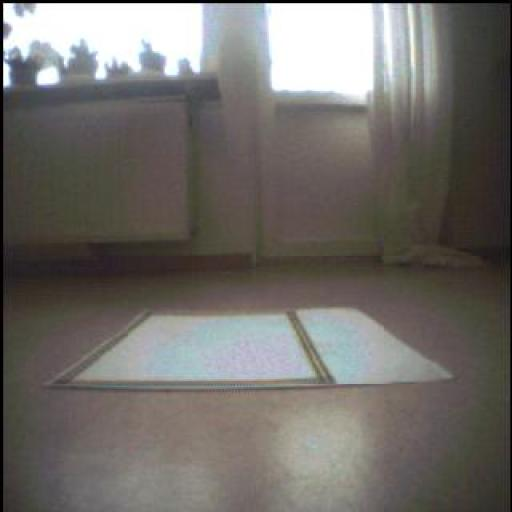Pad: (52, 310, 452, 390)
